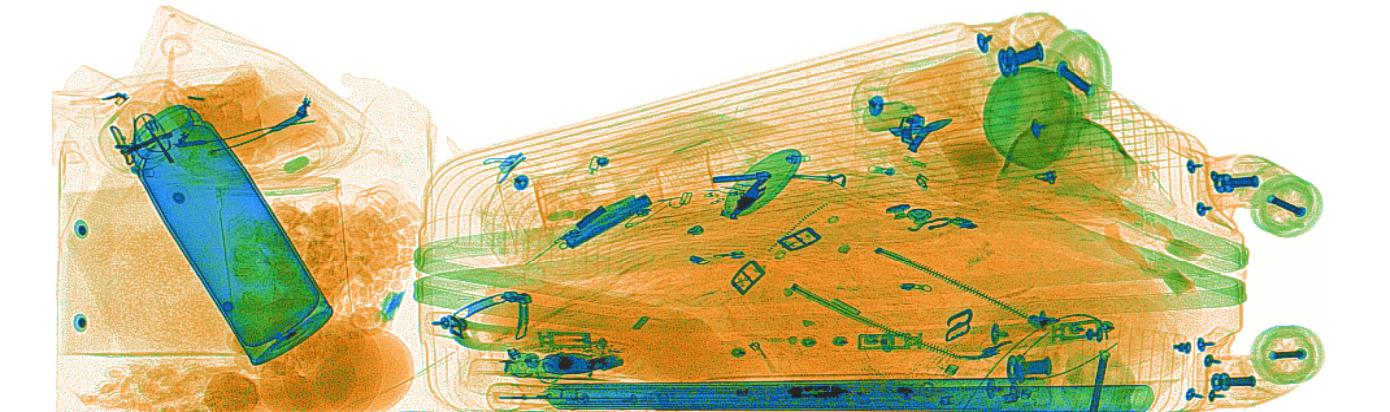knife: (558, 191, 653, 252)
scissors: (861, 111, 953, 177)
